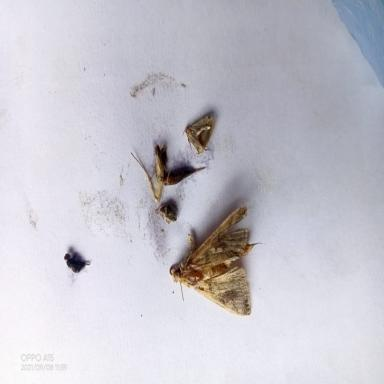abw: (170, 206, 264, 318)
pbw: (163, 166, 204, 184), (153, 143, 165, 184)
